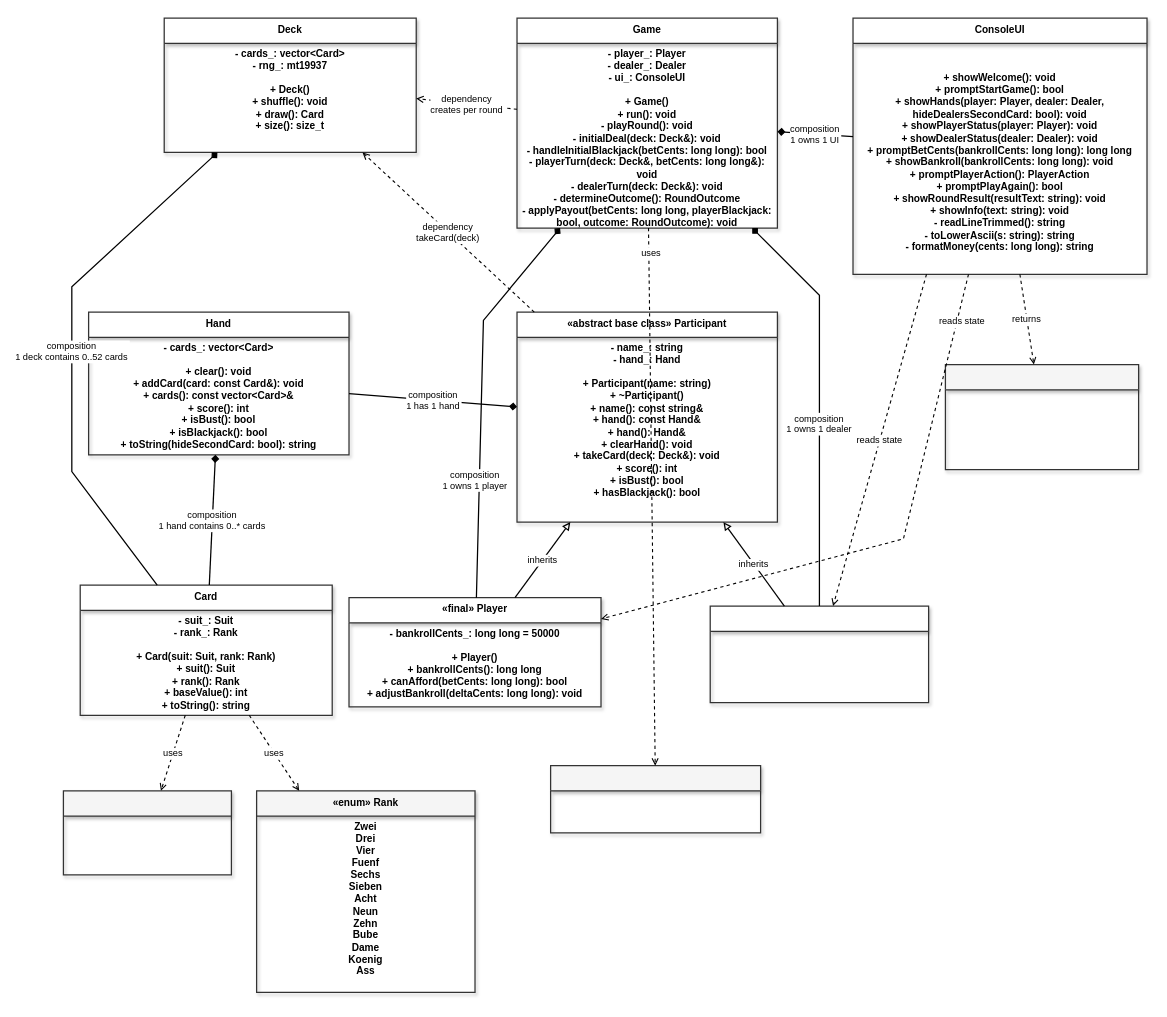
The diagram is 1167 pixels wide and 1017 high, and some of its shapes have lost their labels. The centre of each missing label's shape, as x and y in pixels:
"«enum» PlayerAction Hit Stand DoubleDown" goes at point (1042, 418).
"«enum» RoundOutcome PlayerWin DealerWin Push" goes at point (656, 800).
"«enum» Suit Kreuz Pik Herz Karo" goes at point (148, 833).
"«final» Dealer + Dealer() + shouldHit(): bool" goes at point (820, 655).
